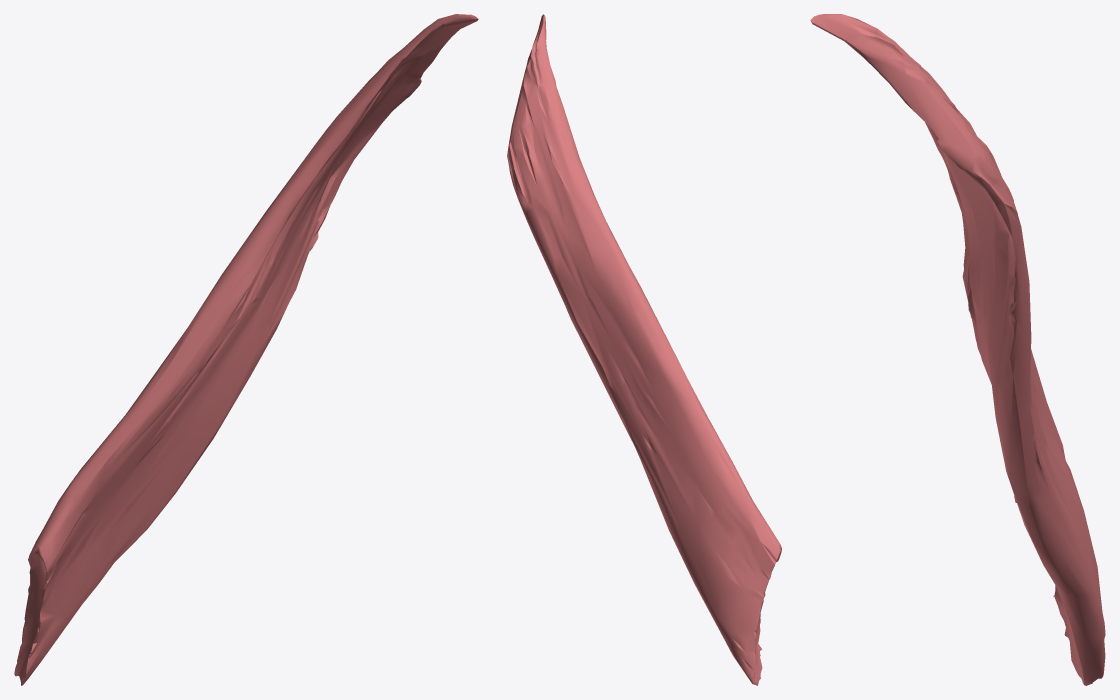
The picture shows the model from 3 angles, left to right: view 1: azimuth 30°, elevation 25°; view 2: azimuth 150°, elevation 25°; view 3: azimuth 270°, elevation 25°; orthographic projection. The views are drawn at different scales.
Visible parts, largest first — view 1: FJ1537; view 2: FJ1537; view 3: FJ1537.
Boxes of the visible parts, <box> form: FJ1537: <box>14,14,478,685</box>; FJ1537: <box>507,14,781,685</box>; FJ1537: <box>810,14,1105,685</box>.
Bounding box in the file's own units: 0.0623 × 0.1061 × 0.0311.
